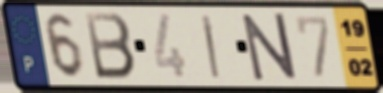4: (152, 11, 189, 81)
6: (43, 11, 87, 81)
7: (292, 14, 333, 81)
B: (82, 10, 139, 82)
I: (199, 12, 222, 81)
N: (239, 11, 300, 84)
